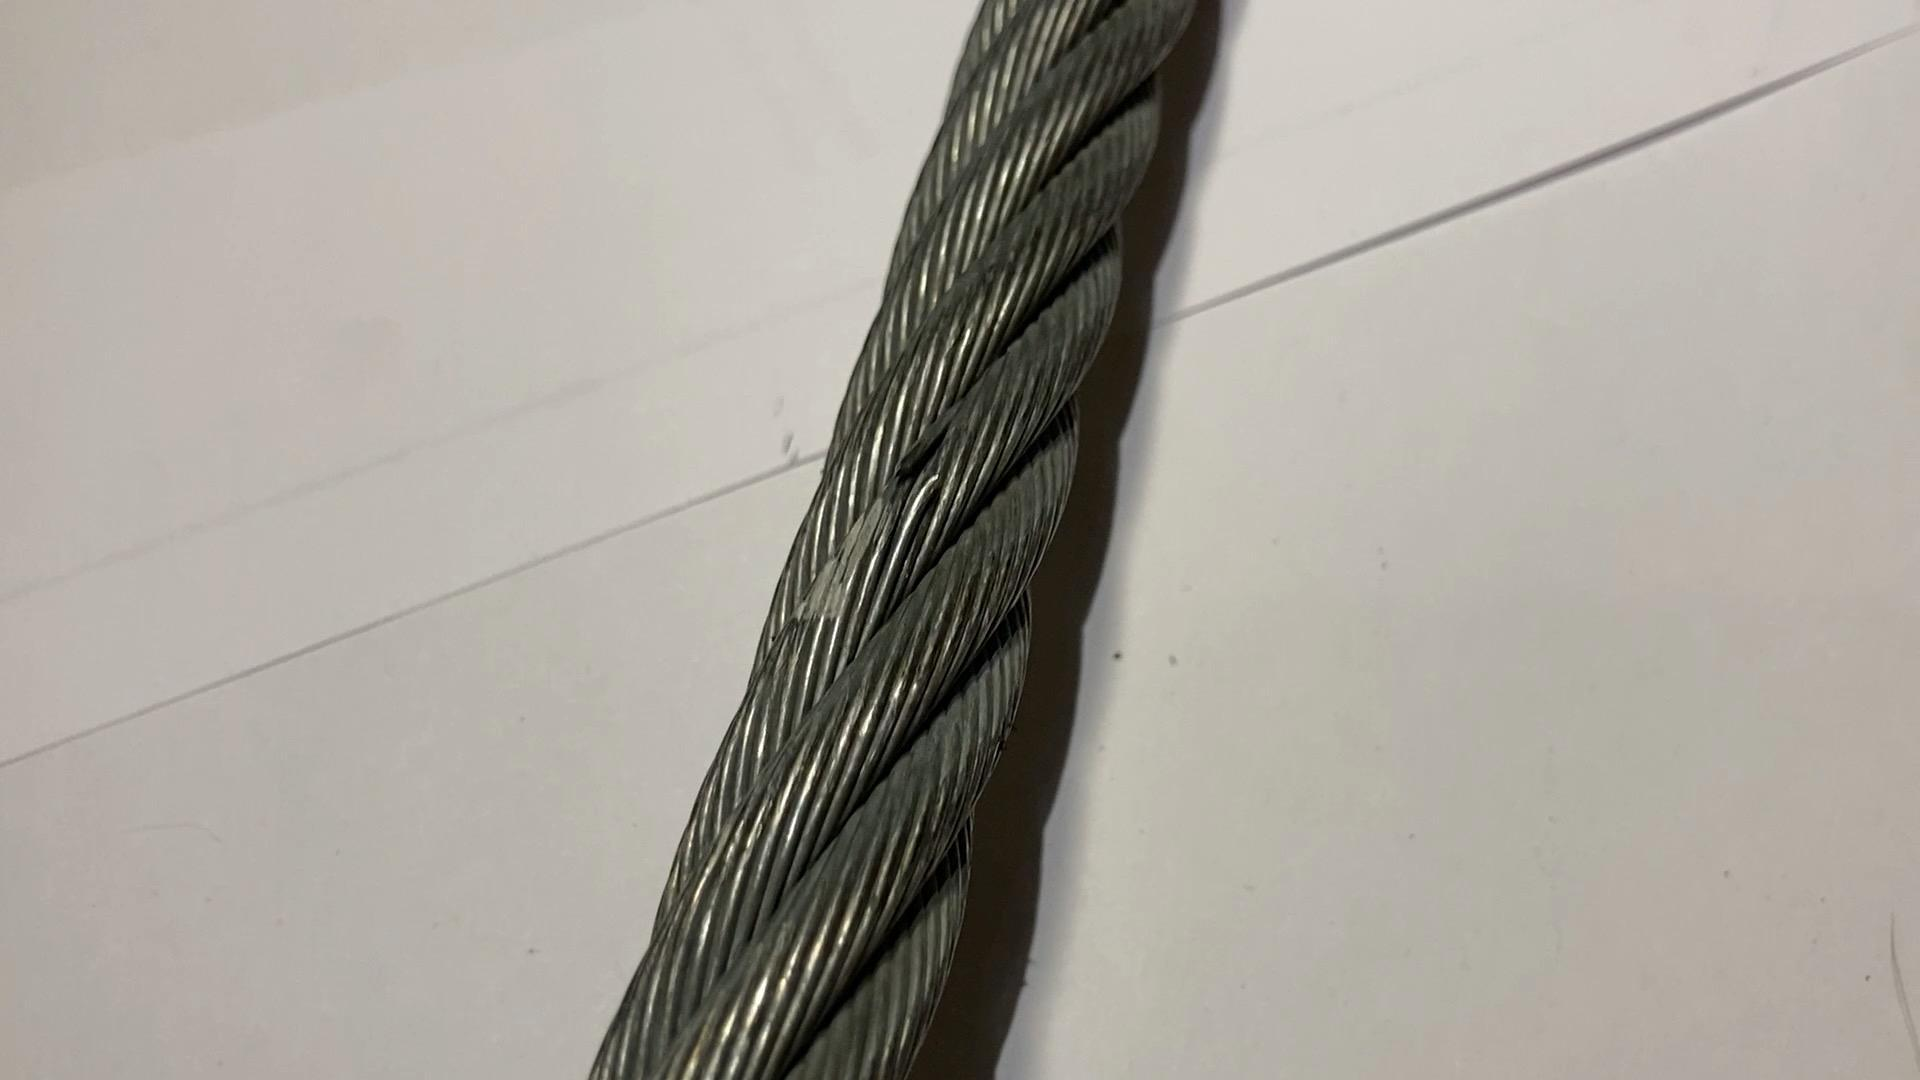break: (880, 443, 961, 504)
